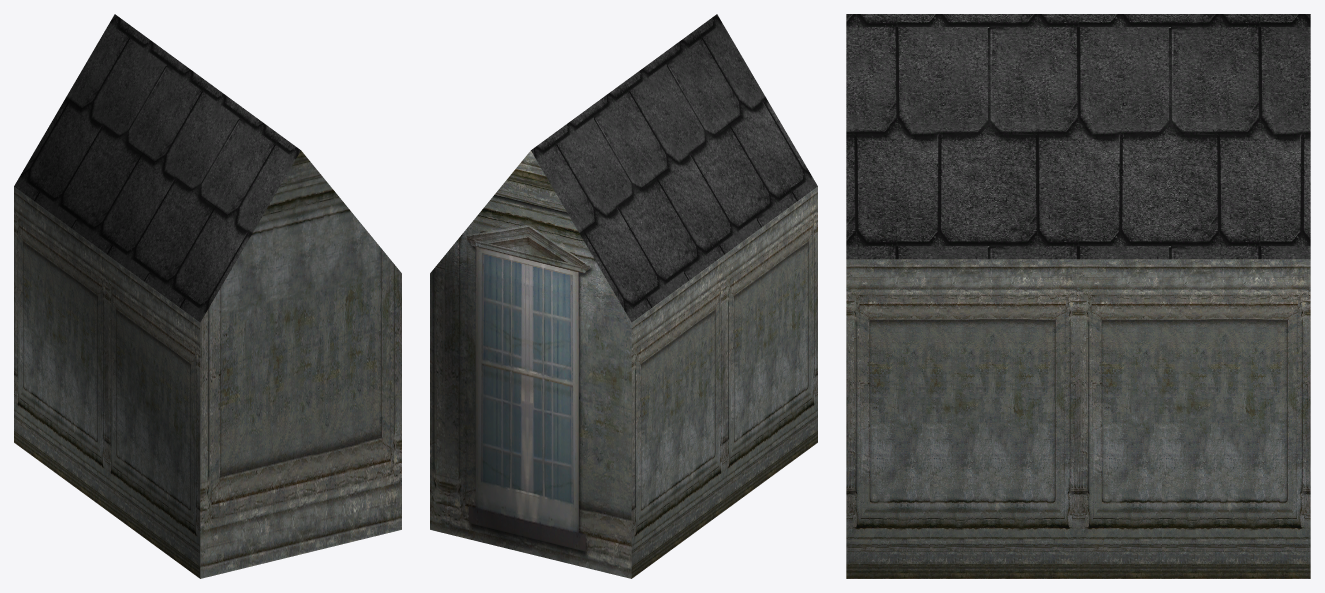
File: RoofGable.dae
3 renders of one model, left to right at view 1: azimuth 30°, elevation 25°; view 2: azimuth 150°, elevation 25°; view 3: azimuth 270°, elevation 25°, orthographic. The views are drawn at different scales.
Parts seen in each view (by area): view 1: TTR_SMRoofGable01; view 2: TTR_SMRoofGable01; view 3: TTR_SMRoofGable01.
Part boxes in pixels (<box>): TTR_SMRoofGable01: <box>14,14,401,578</box>; TTR_SMRoofGable01: <box>430,14,817,578</box>; TTR_SMRoofGable01: <box>846,14,1310,578</box>.
Size of the model in its own units: 2.4 by 3.84 by 4.6.
Materials: 4 (3 with a texture image).
